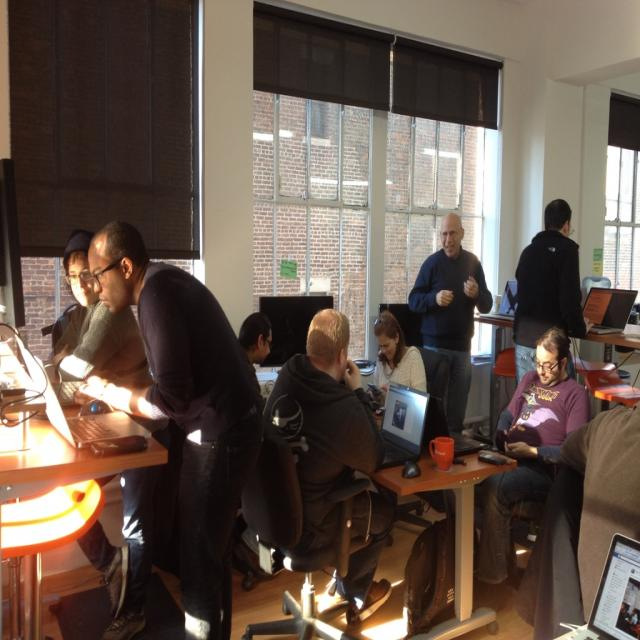chair: (232, 425, 395, 639)
desk: (374, 421, 524, 619)
laptop: (3, 331, 148, 453), (555, 533, 639, 640), (376, 382, 429, 471), (584, 288, 639, 336)
mouse: (79, 399, 112, 415), (402, 462, 420, 478)
person: (78, 220, 268, 640), (261, 308, 398, 622), (474, 326, 590, 587), (408, 209, 493, 439), (49, 229, 148, 385), (512, 198, 587, 392), (368, 312, 427, 401), (238, 313, 274, 367)
tv: (258, 294, 334, 368)
